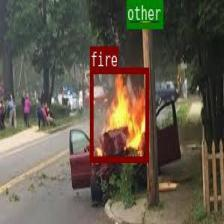fire: (90, 68, 148, 162)
